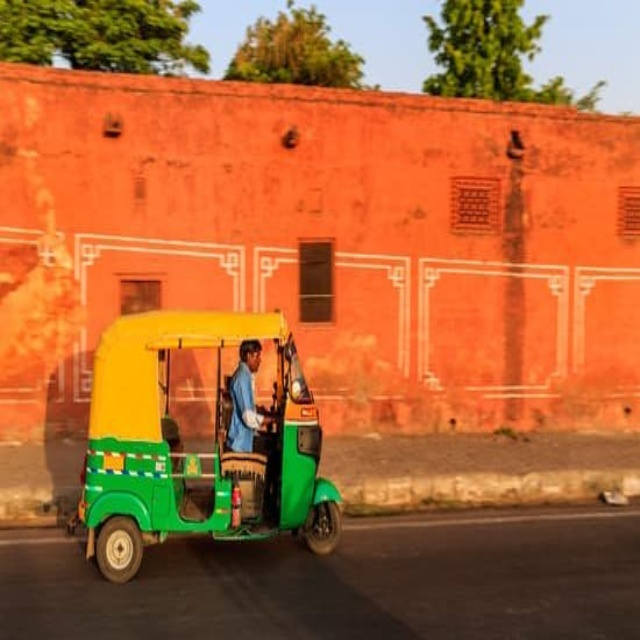Motorcycle: (77, 310, 343, 586)
